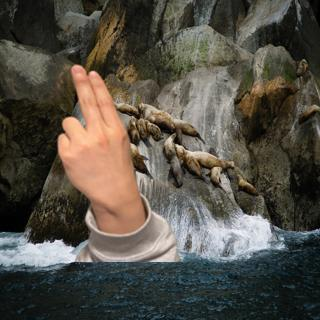DHAVE: (51, 62, 144, 207)
